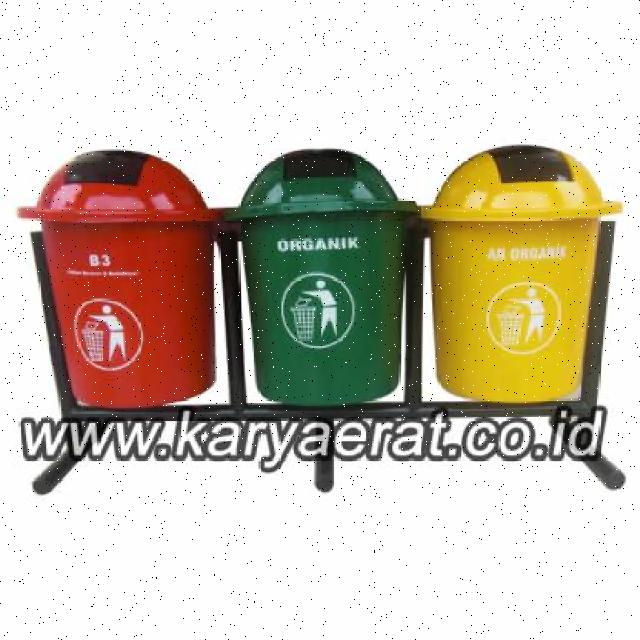garbage container: (414, 132, 628, 420), (12, 143, 232, 409), (221, 140, 422, 412)
